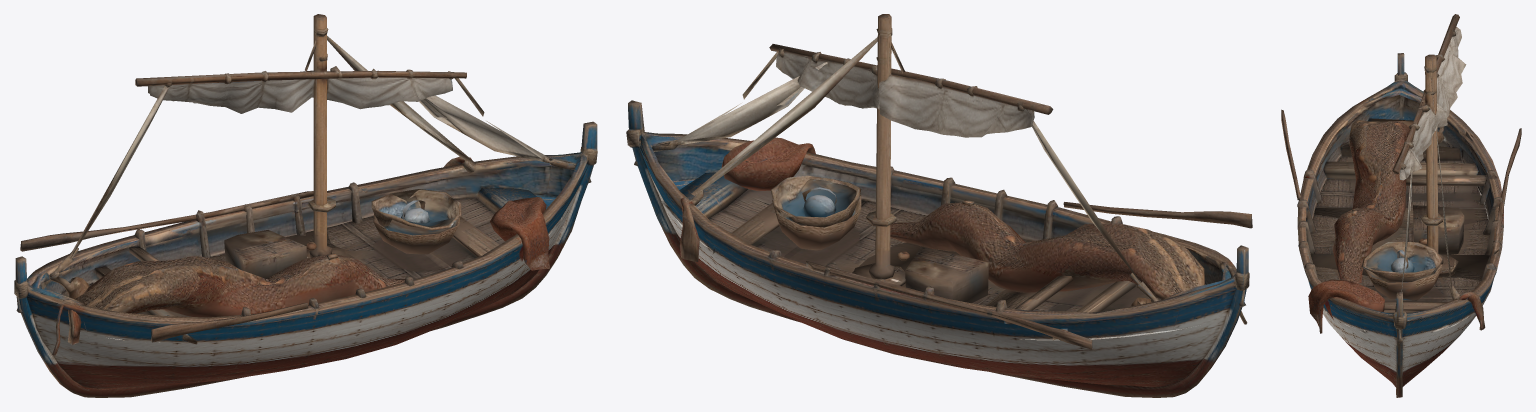
The model's file is Meshy_AI_Weathered_Fishing_Boa_1003083321_texture.fbx.
3 renders of one model, left to right at view 1: azimuth 30°, elevation 25°; view 2: azimuth 150°, elevation 25°; view 3: azimuth 270°, elevation 25°, orthographic. The views are drawn at different scales.
Visible parts, largest first — view 1: Mesh_0; view 2: Mesh_0; view 3: Mesh_0.
Boxes of the visible parts, box(x1,y1,x2,y2) form: Mesh_0: box(14, 14, 597, 397); Mesh_0: box(626, 14, 1252, 397); Mesh_0: box(1281, 14, 1521, 397).
Size of the model in its own units: 100 by 53.88 by 42.35.
1 material, 1 textured.
